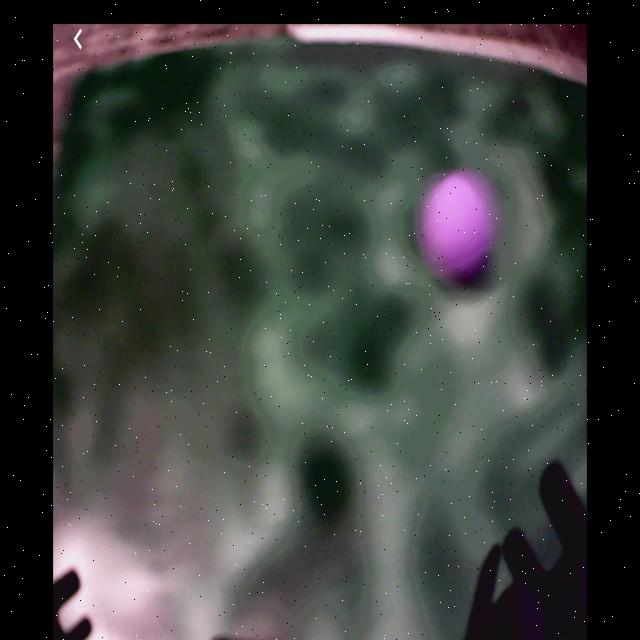ball: (428, 174, 492, 281)
